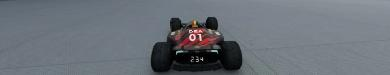Car: (150, 16, 242, 72)
grass: (0, 0, 389, 74)
